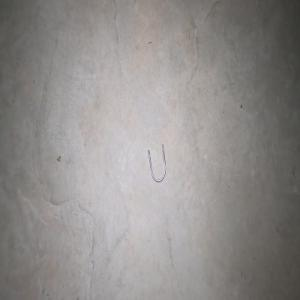ClampPart: (147, 143, 166, 182)
